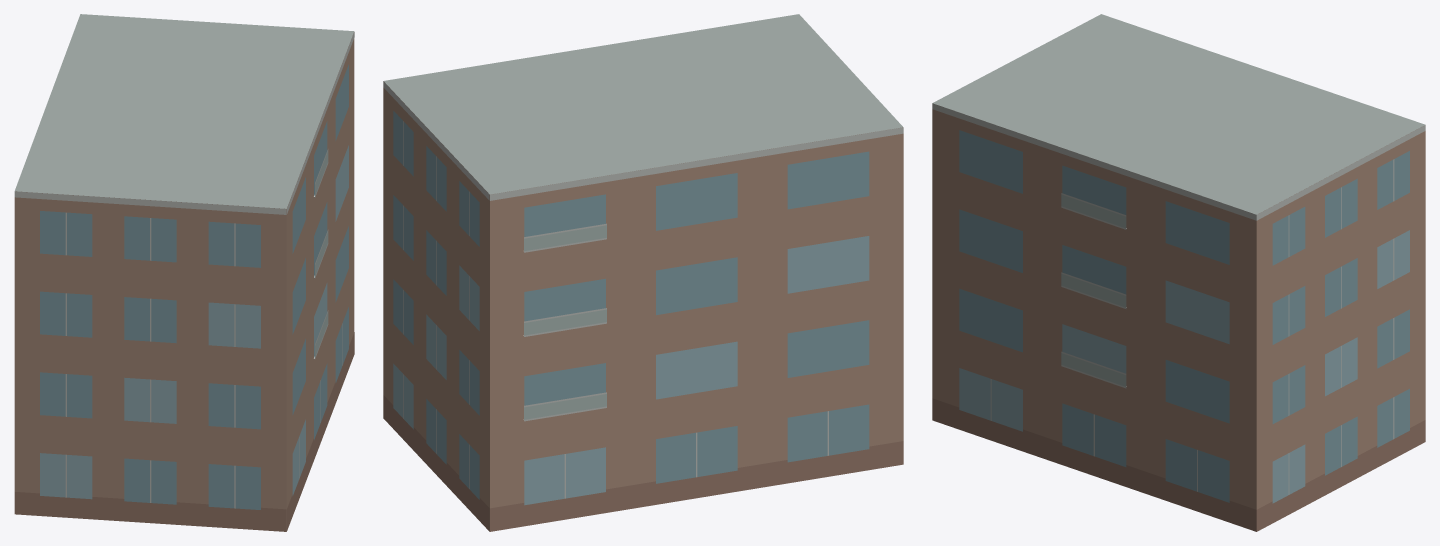
The model's file is survey-upis-32711747.glb.
The picture shows the model from 3 angles, left to right: view 1: azimuth 30°, elevation 25°; view 2: azimuth 150°, elevation 25°; view 3: azimuth 270°, elevation 25°; orthographic projection. The views are drawn at different scales.
Parts seen in each view (by area): view 1: survey-upis-32711747.tmp; view 2: survey-upis-32711747.tmp; view 3: survey-upis-32711747.tmp.
Boxes of the visible parts, box(x1,y1,x2,y2) form: survey-upis-32711747.tmp: box(14, 14, 354, 531); survey-upis-32711747.tmp: box(383, 14, 903, 531); survey-upis-32711747.tmp: box(932, 14, 1425, 531).
Bounding box in the file's own units: 17.52 × 12.9 × 18.2.
